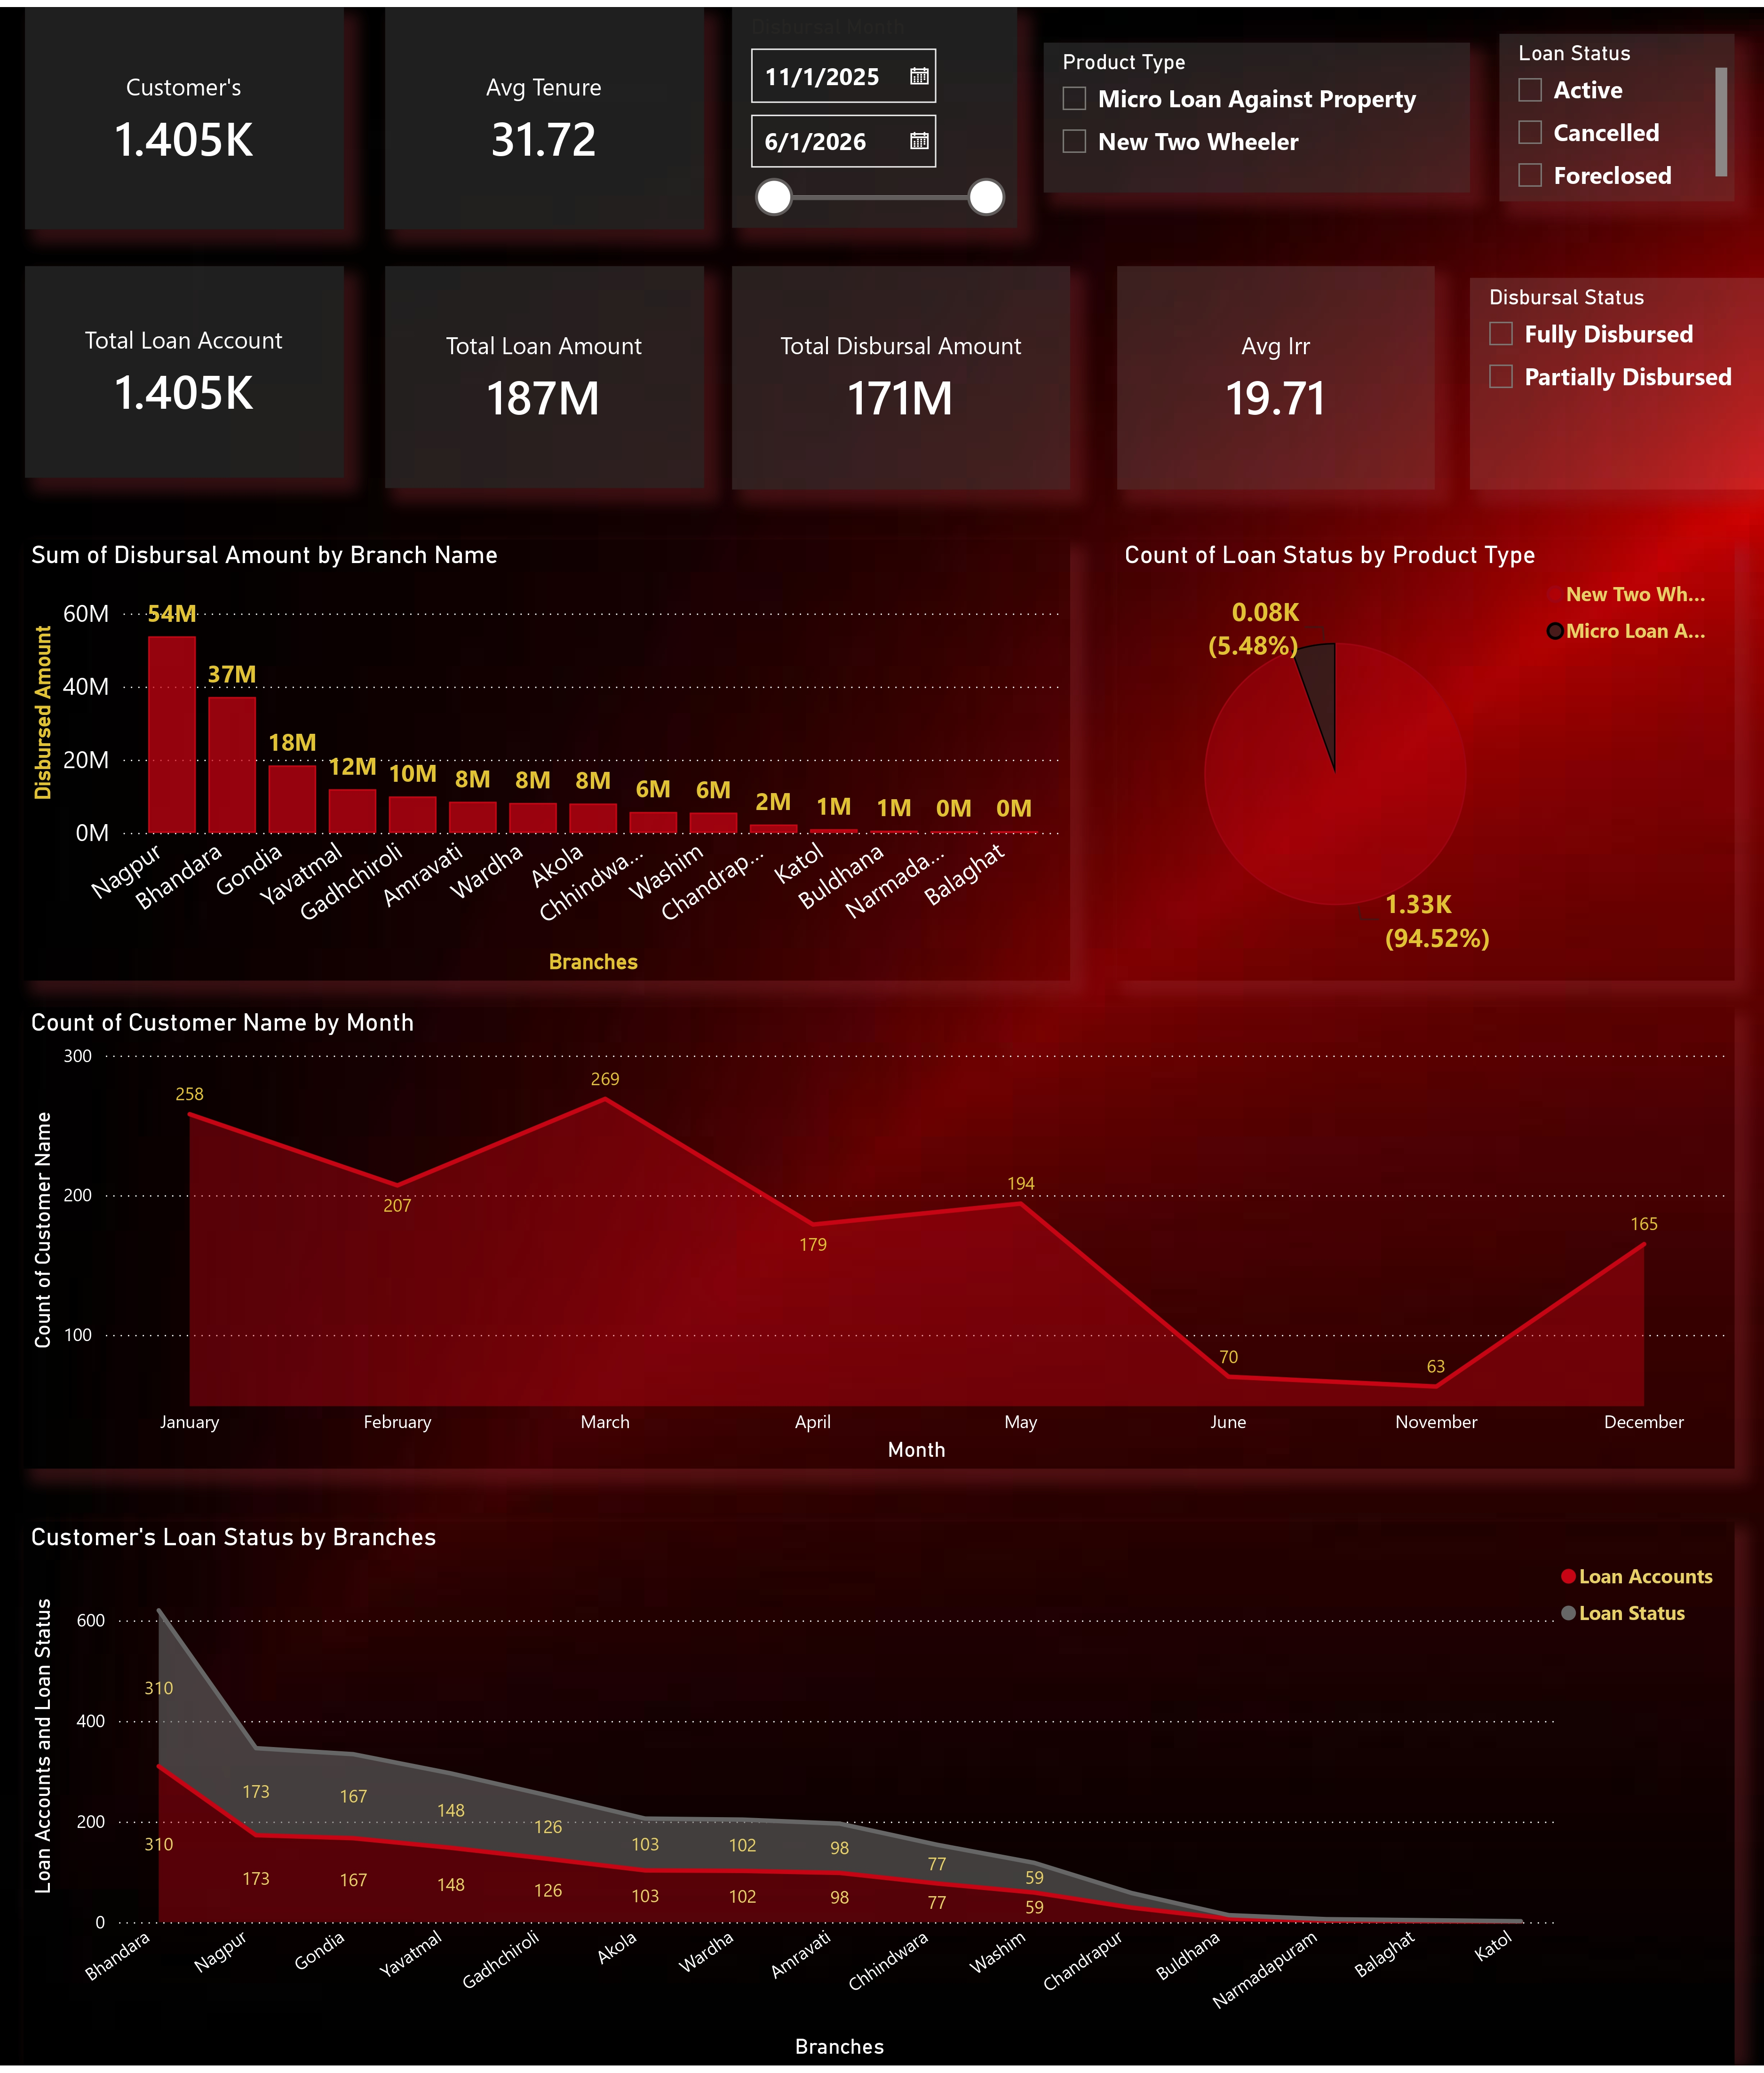

The page's visual inventory and layout, read from the dashboard file:
{"tool":"powerbi","page":{"name":"Page 1","canvas":[1200,1400],"ordinal":0},"visuals":[{"type":"cardVisual","fields":{"Data":["CountNonNull(cleaned_finance_data.Loan Account Number)"]},"box":[16.8,176.4,216.7,144.5],"z":0},{"type":"cardVisual","fields":{"Data":["Sum(cleaned_finance_data.Sanctioned Amount)"]},"box":[262,176.4,216.7,151.2],"z":1000},{"type":"cardVisual","fields":{"Data":["CountNonNull(cleaned_finance_data.Customer Name)"]},"box":[16.8,0,216.7,151.2],"z":2000},{"type":"slicer","fields":{"Values":["cleaned_finance_data.Disbursal Month"]},"box":[498,0,194,150],"z":3000},{"type":"cardVisual","fields":{"Data":["Avg(cleaned_finance_data.Original Tenure)"]},"box":[262,0,216.7,151.2],"z":4000},{"type":"stackedAreaChart","title":"Customer''s Loan Status by Branches","fields":{"Y":["CountNonNull(cleaned_finance_data.Loan Account Number)","CountNonNull(cleaned_finance_data.Loan Status)"],"Category":["cleaned_finance_data.Branch Name"]},"box":[16,1030,1164,370],"z":5000},{"type":"slicer","fields":{"Values":["cleaned_finance_data.Product Type"]},"box":[710,24,290,102],"z":6000},{"type":"slicer","fields":{"Values":["cleaned_finance_data.Loan Status"]},"box":[1020,18,160,114],"z":7000},{"type":"cardVisual","fields":{"Data":["Sum(cleaned_finance_data.Disbursal Amount)"]},"box":[498,176,230,152],"z":8000},{"type":"cardVisual","fields":{"Data":["Avg(cleaned_finance_data.Irr)"]},"box":[760,176,216,152],"z":9000},{"type":"slicer","fields":{"Values":["cleaned_finance_data.Disbursal Status"]},"box":[1000,184,200,144],"z":10000},{"type":"lineChart","fields":{"Category":["cleaned_finance_data.Disbursal Date.Variation.Date Hierarchy.Month"],"Y":["CountNonNull(cleaned_finance_data.Customer Name)"]},"box":[16,680,1164,314],"z":11000},{"type":"clusteredColumnChart","fields":{"Category":["cleaned_finance_data.Branch Name"],"Y":["Sum(cleaned_finance_data.Disbursal Amount)"]},"box":[16,362,712,300],"z":12001},{"type":"pieChart","fields":{"Category":["cleaned_finance_data.Product Type"],"Y":["CountNonNull(cleaned_finance_data.Loan Status)"]},"box":[760,362,420,300],"z":12002}]}

Visuals, with their boxes in screenshot pixels (x1, y1, x2, y2), scaled from the page's 1200x1400 canvas onto the 1764x2073 screenshot:
cardVisual - CountNonNull(cleaned_finance_data.Loan Account Number): 24:261:343:475
cardVisual - Sum(cleaned_finance_data.Sanctioned Amount): 385:261:704:485
cardVisual - CountNonNull(cleaned_finance_data.Customer Name): 24:0:343:224
slicer - cleaned_finance_data.Disbursal Month: 732:0:1017:222
cardVisual - Avg(cleaned_finance_data.Original Tenure): 385:0:704:224
"Customer''s Loan Status by Branches" stackedAreaChart: 24:1525:1735:2073
slicer - cleaned_finance_data.Product Type: 1044:36:1470:187
slicer - cleaned_finance_data.Loan Status: 1500:27:1735:196
cardVisual - Sum(cleaned_finance_data.Disbursal Amount): 732:261:1070:485
cardVisual - Avg(cleaned_finance_data.Irr): 1117:261:1435:485
slicer - cleaned_finance_data.Disbursal Status: 1470:272:1764:485
lineChart - cleaned_finance_data.Disbursal Date.Variation.Date Hierarchy.Month x CountNonNull(cleaned_finance_data.Customer Name): 24:1007:1735:1472
clusteredColumnChart - cleaned_finance_data.Branch Name x Sum(cleaned_finance_data.Disbursal Amount): 24:536:1070:980
pieChart - cleaned_finance_data.Product Type x CountNonNull(cleaned_finance_data.Loan Status): 1117:536:1735:980
